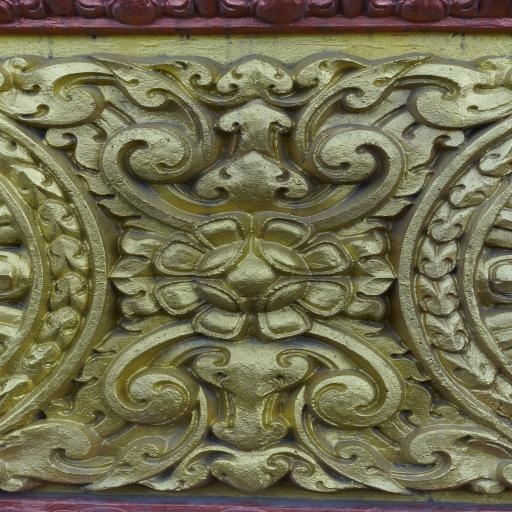hoa: (113, 210, 399, 342)
la: (0, 320, 512, 501), (0, 47, 512, 220)
